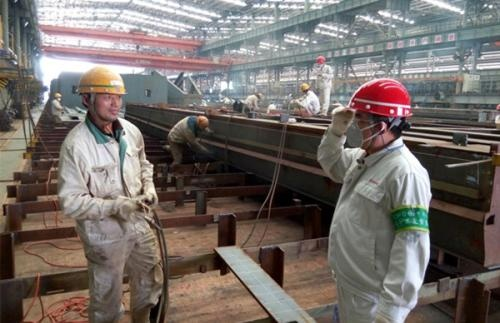red: (343, 77, 412, 154)
yellow: (76, 65, 131, 125)
